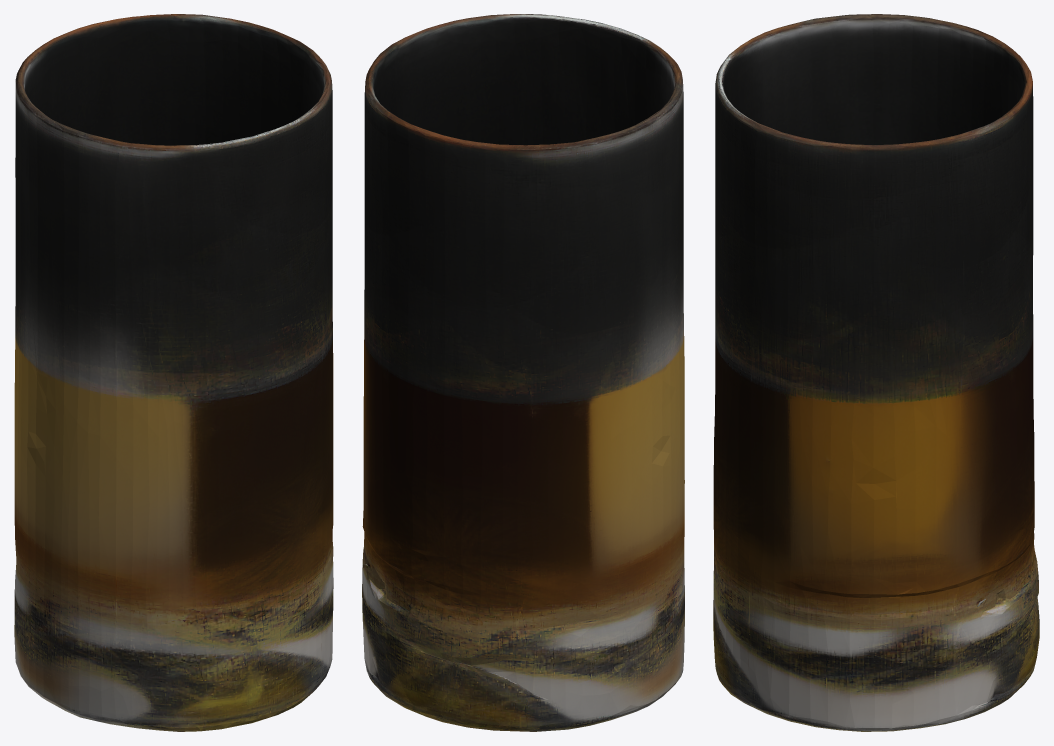
Rendered from trellis_1789144114196_jvy03.glb.
3 renders of one model, left to right at view 1: azimuth 30°, elevation 25°; view 2: azimuth 150°, elevation 25°; view 3: azimuth 270°, elevation 25°, orthographic.
Parts seen in each view (by area): view 1: world; view 2: world; view 3: world.
Boxes of the visible parts, x1,y1,x2,y2 form: world: (14, 14, 333, 731); world: (362, 14, 684, 731); world: (713, 14, 1039, 731).
Bounding box in the file's own units: 0.4131 × 0.8397 × 0.4184.
Materials: 1 (1 with a texture image).
